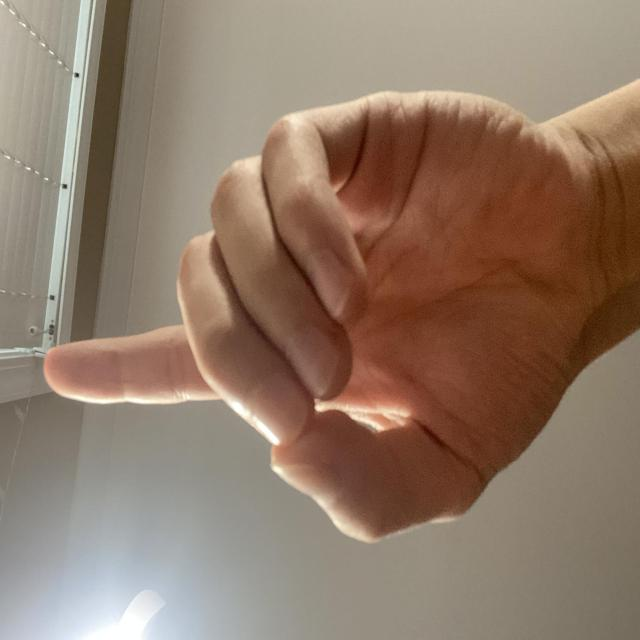D: (63, 44, 425, 640)
